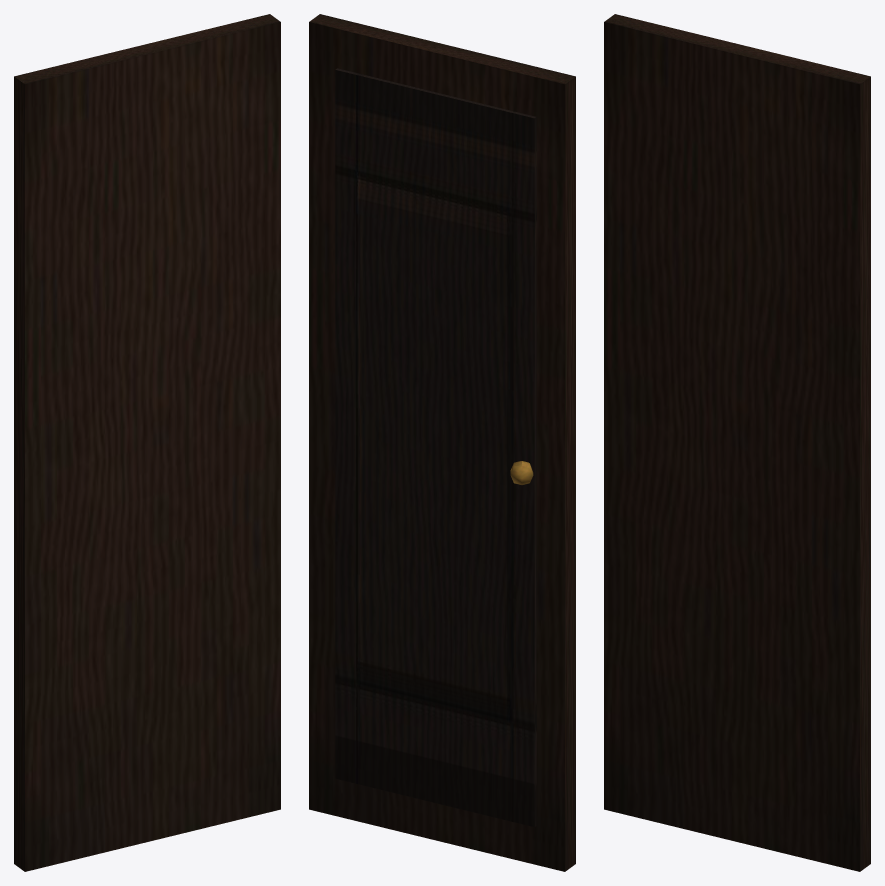
The model's file is wardrobe_door.glb.
The picture shows the model from 3 angles, left to right: view 1: azimuth 30°, elevation 25°; view 2: azimuth 150°, elevation 25°; view 3: azimuth 330°, elevation 25°; orthographic projection.
Parts seen in each view (by area): view 1: wardrobe_door; view 2: wardrobe_door; view 3: wardrobe_door.
Boxes of the visible parts, x1=… form: wardrobe_door: x1=14, y1=14, x2=280, y2=871; wardrobe_door: x1=309, y1=14, x2=575, y2=871; wardrobe_door: x1=604, y1=14, x2=870, y2=871.
Bounding box in the file's own units: 0.68 × 2 × 0.101.
3 materials, 3 textured.
